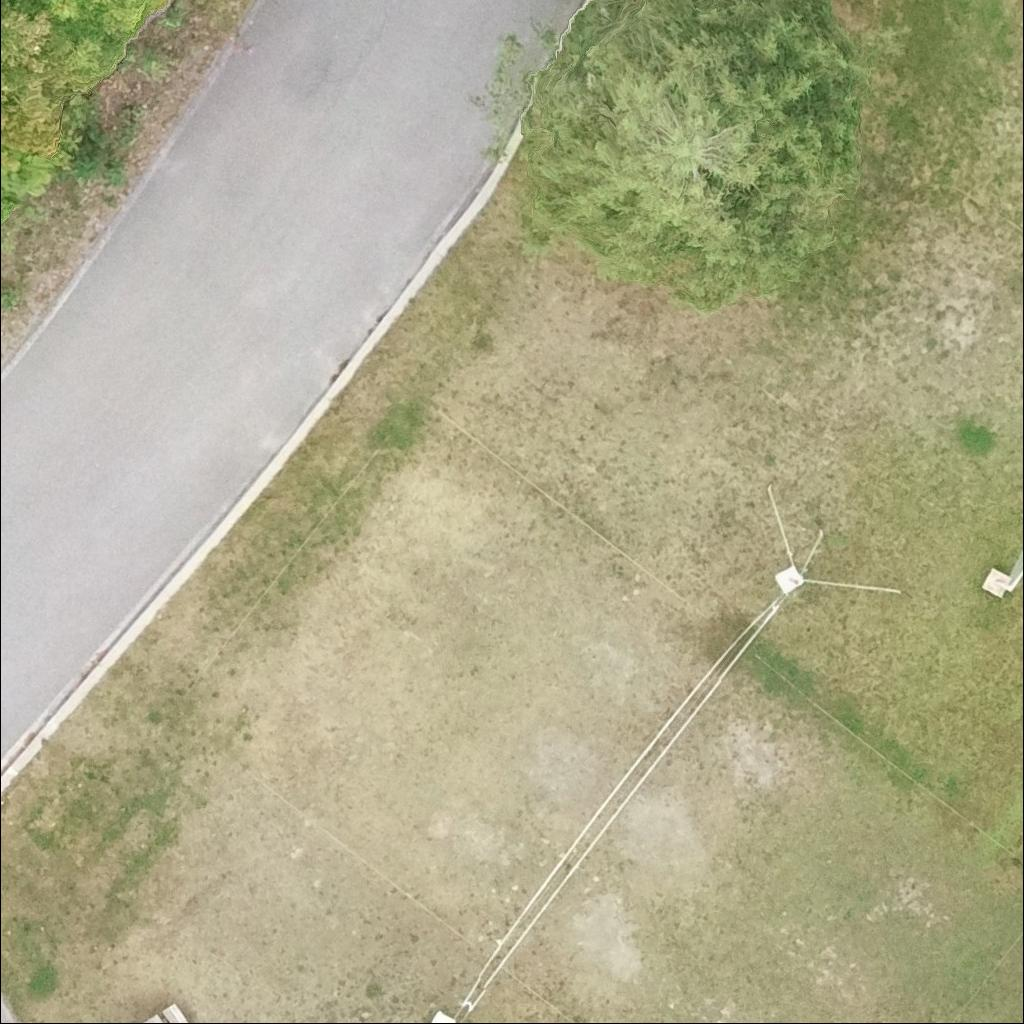crown: (529, 0, 855, 283)
